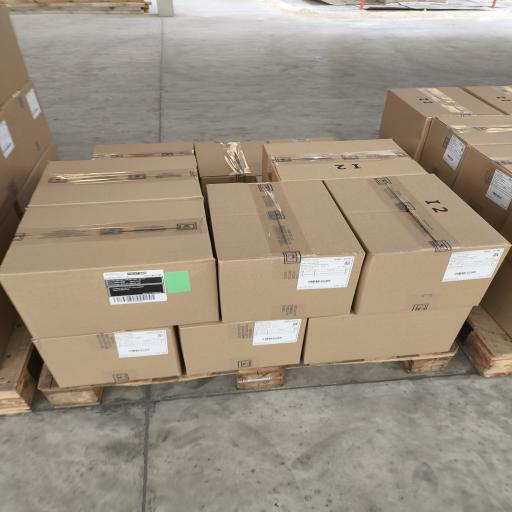pallet: (39, 365, 308, 407), (459, 306, 511, 377), (0, 321, 37, 414), (38, 365, 102, 408)
